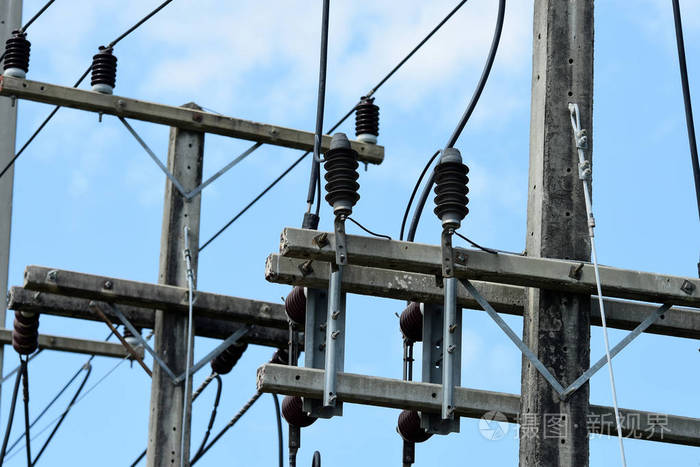insulator: (431, 161, 470, 219), (323, 148, 360, 206), (11, 310, 40, 359), (2, 38, 40, 71), (86, 53, 119, 86), (352, 103, 381, 137)
